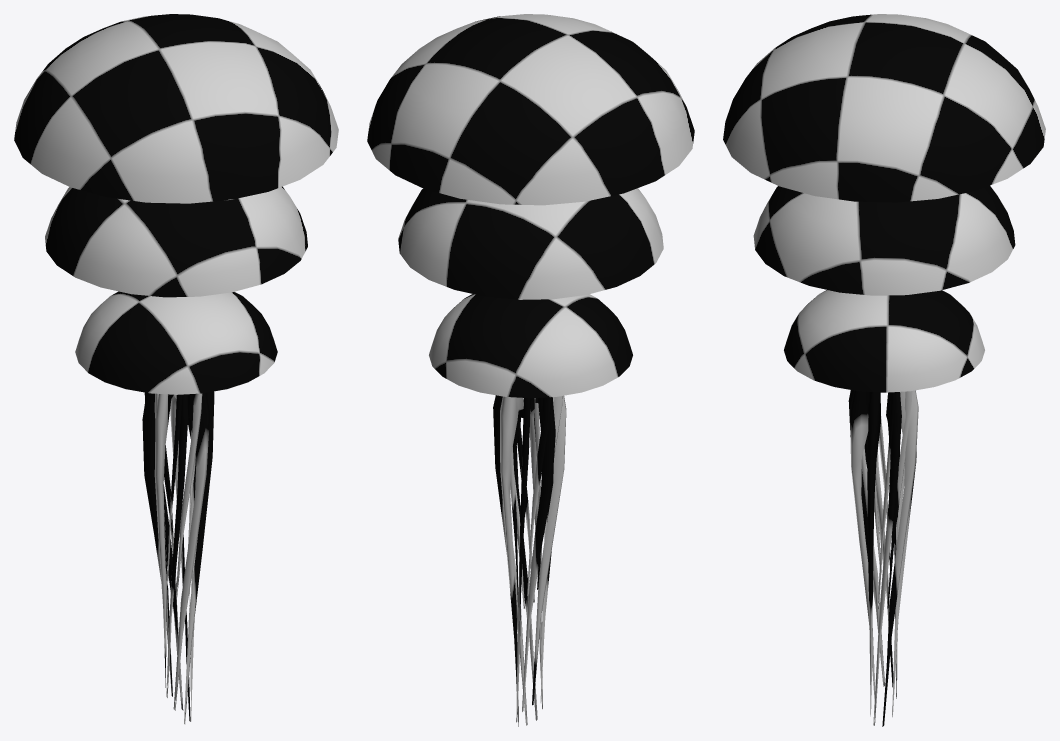
File: curcubitor.obj
3 views of the same model, side by side, from view 1: azimuth 30°, elevation 25°; view 2: azimuth 150°, elevation 25°; view 3: azimuth 270°, elevation 25° (orthographic).
Visible parts, largest first — view 1: curcubitor; view 2: curcubitor; view 3: curcubitor.
Boxes of the visible parts, <box> form: curcubitor: <box>14,14,338,724</box>; curcubitor: <box>367,14,694,726</box>; curcubitor: <box>723,14,1045,726</box>.
Bounding box in the file's own units: 26.18 × 61.62 × 26.18.
1 material, 1 textured.
